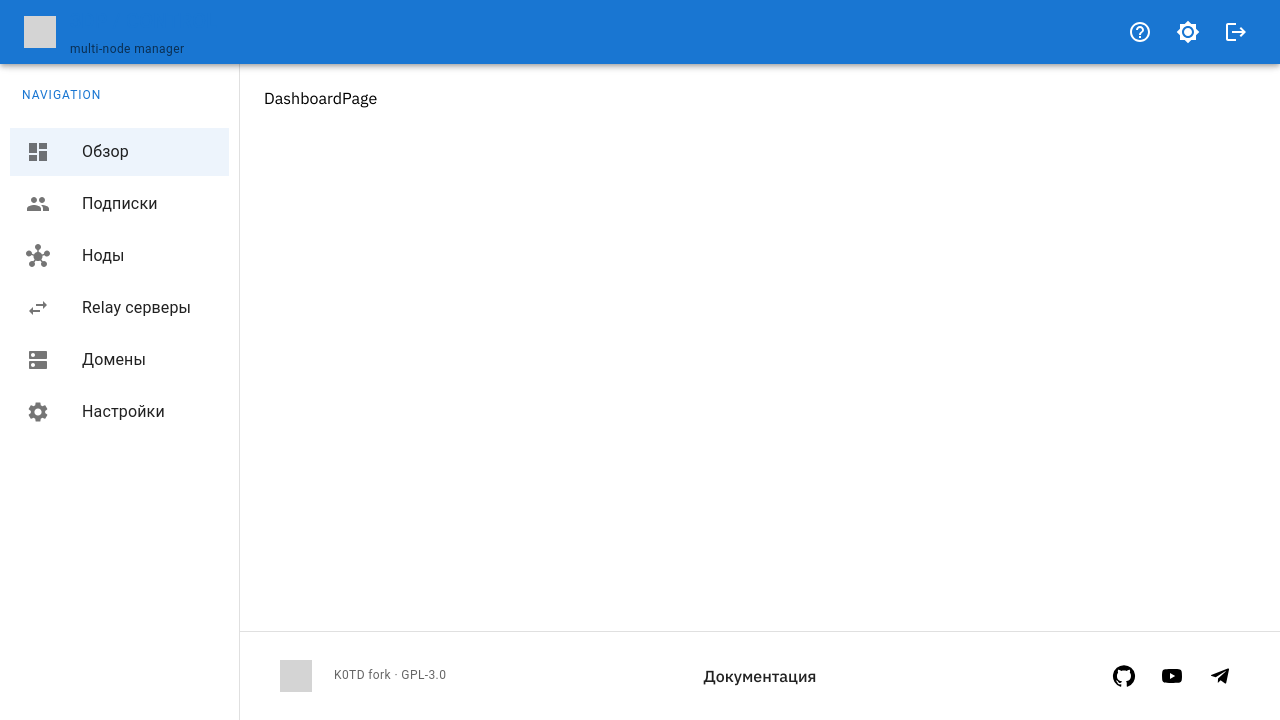
Layout › должен переходить на страницу настроек при клике на "Настройки"
Click the button "Настройки": (95, 412) [26,400,165,424]
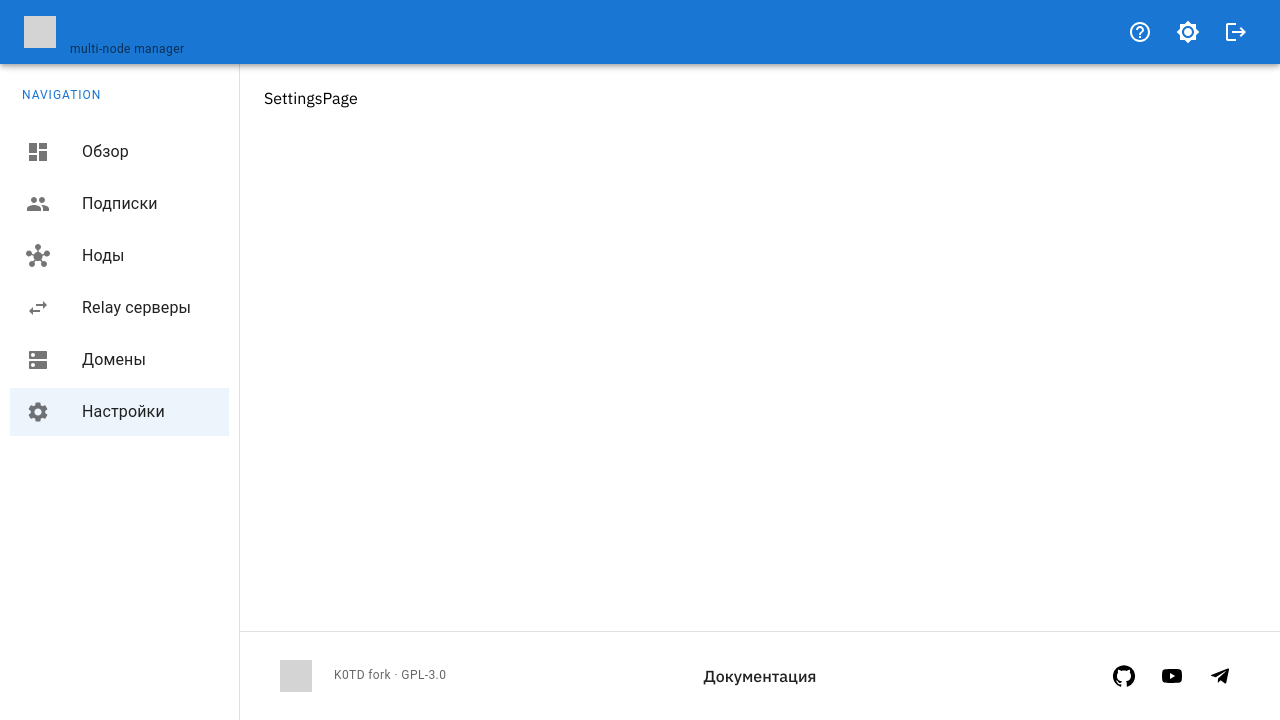
Now the text "SettingsPage" is shown, box [264,88,358,108]
